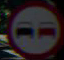No overtake: (2, 3, 60, 52)
